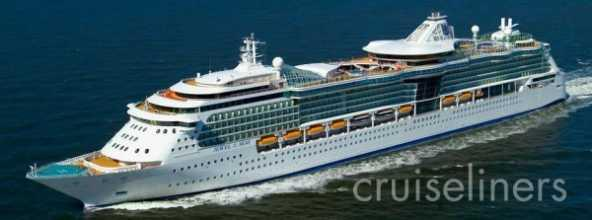youlun: (22, 12, 573, 211)
